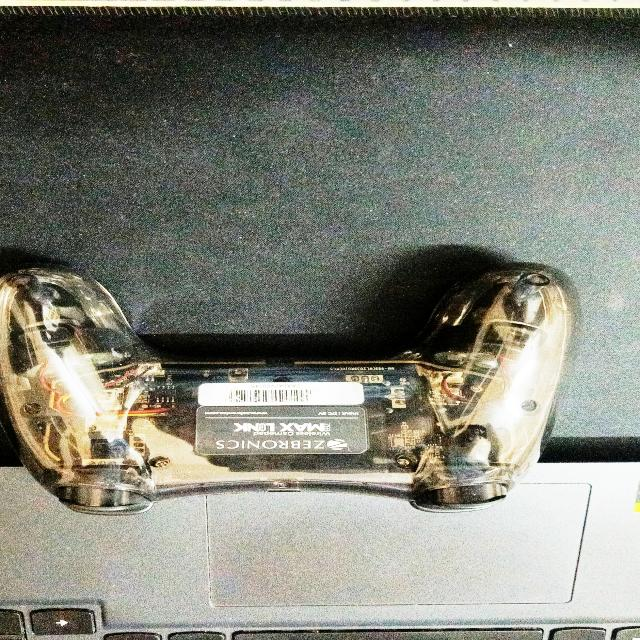gamepad: (0, 263, 574, 517)
